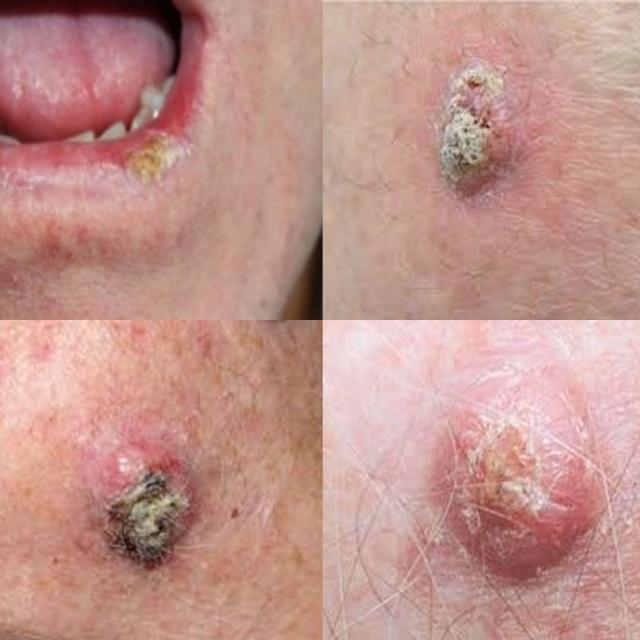Cancer: (415, 356, 617, 582), (80, 425, 204, 580), (427, 42, 529, 204), (120, 129, 200, 192)
